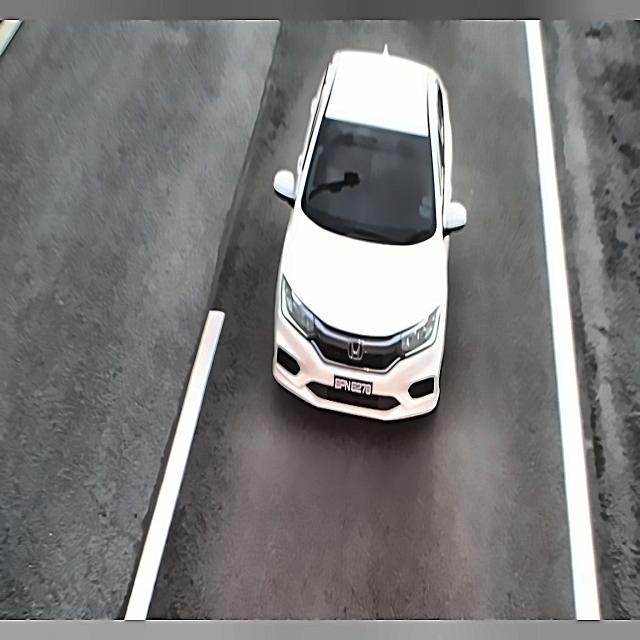car: (326, 367, 384, 411)
